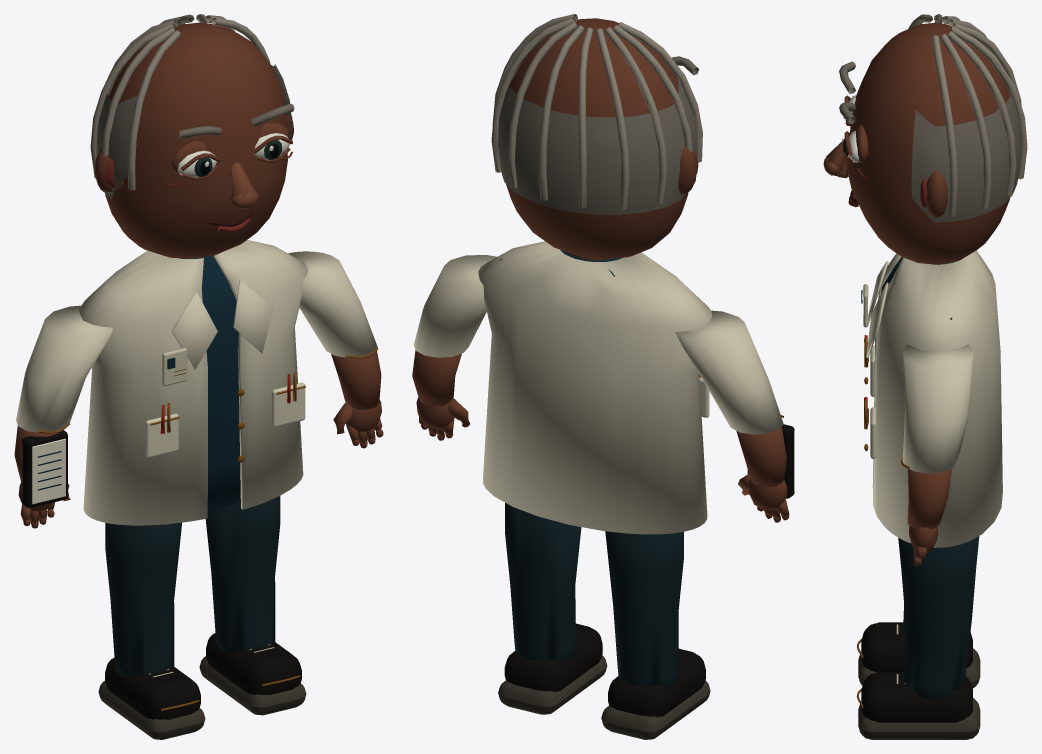
Rendered from doctor-34.glb.
The picture shows the model from 3 angles, left to right: view 1: azimuth 30°, elevation 25°; view 2: azimuth 150°, elevation 25°; view 3: azimuth 270°, elevation 25°; orthographic projection. The views are drawn at different scales.
Visible parts, largest first — view 1: Body, Head, LegL, LegR, ArmL, ArmR; view 2: Body, Head, LegL, LegR, ArmL, ArmR; view 3: Head, Body, LegR, ArmR, LegL.
Part boxes in pixels (x1,y1,x2,y2): Body: [78, 240, 308, 525]; Head: [90, 14, 294, 258]; LegL: [98, 522, 205, 739]; LegR: [199, 496, 306, 715]; ArmL: [14, 305, 112, 528]; ArmR: [288, 251, 383, 448]; Body: [478, 241, 711, 534]; Head: [491, 14, 702, 259]; LegL: [601, 531, 710, 739]; LegR: [498, 503, 607, 714]; ArmL: [675, 310, 794, 522]; ArmR: [412, 255, 497, 440]; Head: [823, 14, 1027, 264]; Body: [861, 250, 1002, 547]; LegR: [856, 536, 980, 739]; ArmR: [901, 344, 973, 566]; LegL: [857, 604, 980, 688].
Bounding box in the file's own units: 0.7802 × 1.39 × 0.3778.
